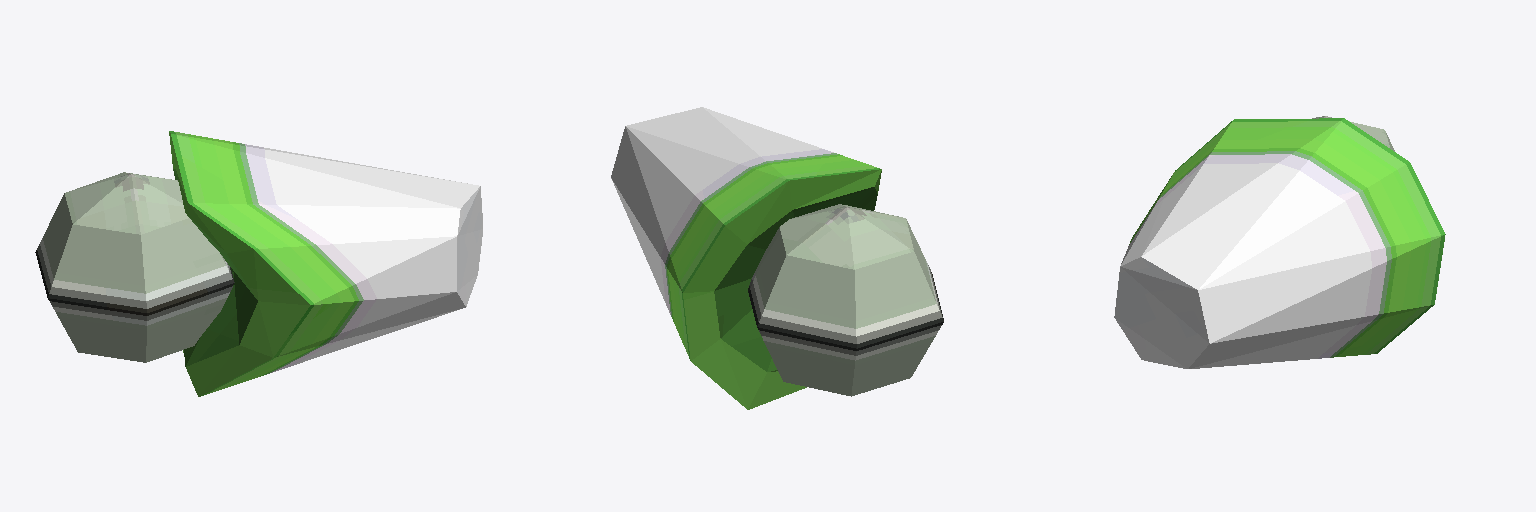
The picture shows the model from 3 angles: view 1: azimuth 30°, elevation 25°; view 2: azimuth 150°, elevation 25°; view 3: azimuth 270°, elevation 25°; orthographic projection.
Parts seen in each view (by area): view 1: buzzlightyLeftForearm_buzzlighty.001; view 2: buzzlightyLeftForearm_buzzlighty.001; view 3: buzzlightyLeftForearm_buzzlighty.001.
Boxes of the visible parts, box(x1,y1,x2,y2) form: buzzlightyLeftForearm_buzzlighty.001: box(35, 131, 482, 396); buzzlightyLeftForearm_buzzlighty.001: box(611, 107, 943, 409); buzzlightyLeftForearm_buzzlighty.001: box(1114, 116, 1445, 368).
Size of the model in its own units: 0.1668 by 0.0927 by 0.1245.
Materials: 1 (1 with a texture image).